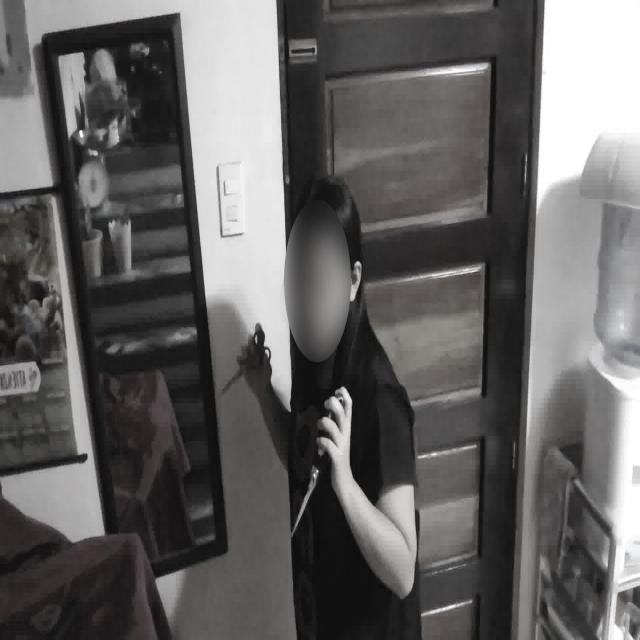scissor: (291, 389, 345, 538), (220, 328, 272, 396)
